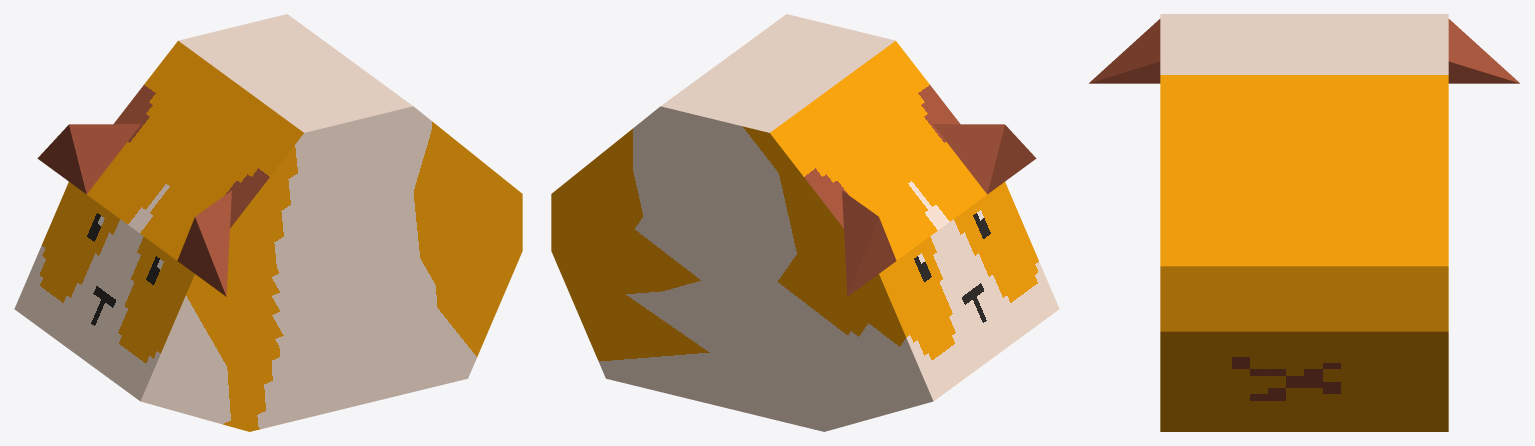
File: ginnie.gltf
3 renders of one model, left to right at view 1: azimuth 30°, elevation 25°; view 2: azimuth 150°, elevation 25°; view 3: azimuth 270°, elevation 25°, orthographic. The views are drawn at different scales.
Bounding box in the file's own units: 1.75 × 1.25 × 1.5.
Materials: 1 (1 with a texture image).
